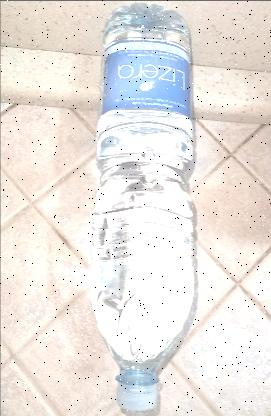Plastic Bottle: (89, 3, 193, 412)
